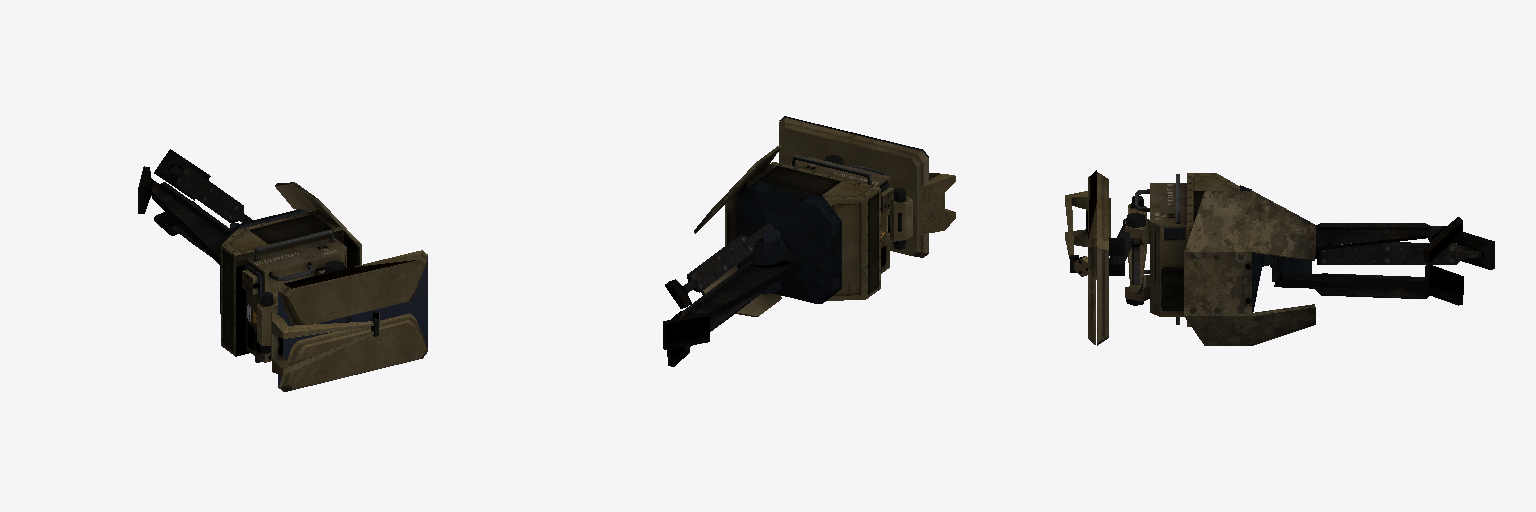
3 views of the same model, side by side, from view 1: azimuth 30°, elevation 25°; view 2: azimuth 150°, elevation 25°; view 3: azimuth 270°, elevation 25° (orthographic).
Visible parts, largest first — view 1: mtl_t6_wpn_turret_ads_red; view 2: mtl_t6_wpn_turret_ads_red; view 3: mtl_t6_wpn_turret_ads_red.
Part boxes in pixels (x1,y1,x2,y2): mtl_t6_wpn_turret_ads_red: (138,149,427,391); mtl_t6_wpn_turret_ads_red: (663,116,955,366); mtl_t6_wpn_turret_ads_red: (1065,170,1494,345).
Bounding box in the file's own units: 68.69 × 63.29 × 159.
1 materials, 1 textured.